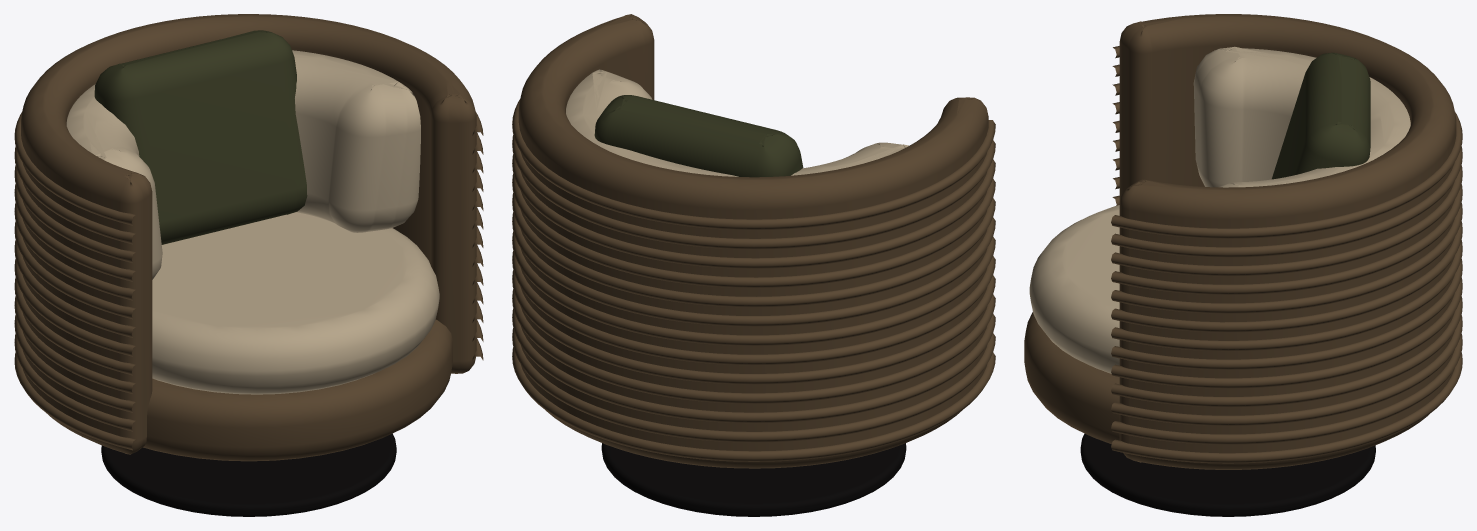
File: swivel-lounge-chair-lod0.glb
3 renders of one model, left to right at view 1: azimuth 30°, elevation 25°; view 2: azimuth 150°, elevation 25°; view 3: azimuth 270°, elevation 25°, orthographic. The views are drawn at different scales.
Parts seen in each view (by area): view 1: Woven taupe rope, Oatmeal performance fabric, Olive accent pillow, Powder-coated bronze aluminium; view 2: Woven taupe rope, Powder-coated bronze aluminium, Olive accent pillow, Oatmeal performance fabric; view 3: Woven taupe rope, Oatmeal performance fabric, Powder-coated bronze aluminium, Olive accent pillow.
Boxes of the visible parts, left/top/right/bottom form: Woven taupe rope: left=14, top=14, right=483, bottom=461; Oatmeal performance fabric: left=66, top=50, right=439, bottom=394; Olive accent pillow: left=94, top=30, right=307, bottom=244; Powder-coated bronze aluminium: left=101, top=433, right=396, bottom=516; Woven taupe rope: left=512, top=14, right=995, bottom=468; Powder-coated bronze aluminium: left=601, top=443, right=906, bottom=516; Olive accent pillow: left=594, top=95, right=803, bottom=177; Oatmeal performance fabric: left=566, top=69, right=908, bottom=176; Woven taupe rope: left=1024, top=14, right=1462, bottom=469; Oatmeal performance fabric: left=1029, top=46, right=1410, bottom=373; Powder-coated bronze aluminium: left=1080, top=433, right=1375, bottom=516; Olive accent pillow: left=1272, top=52, right=1370, bottom=179.
Bounding box in the file's own units: 0.8875 × 0.7666 × 0.8298.
